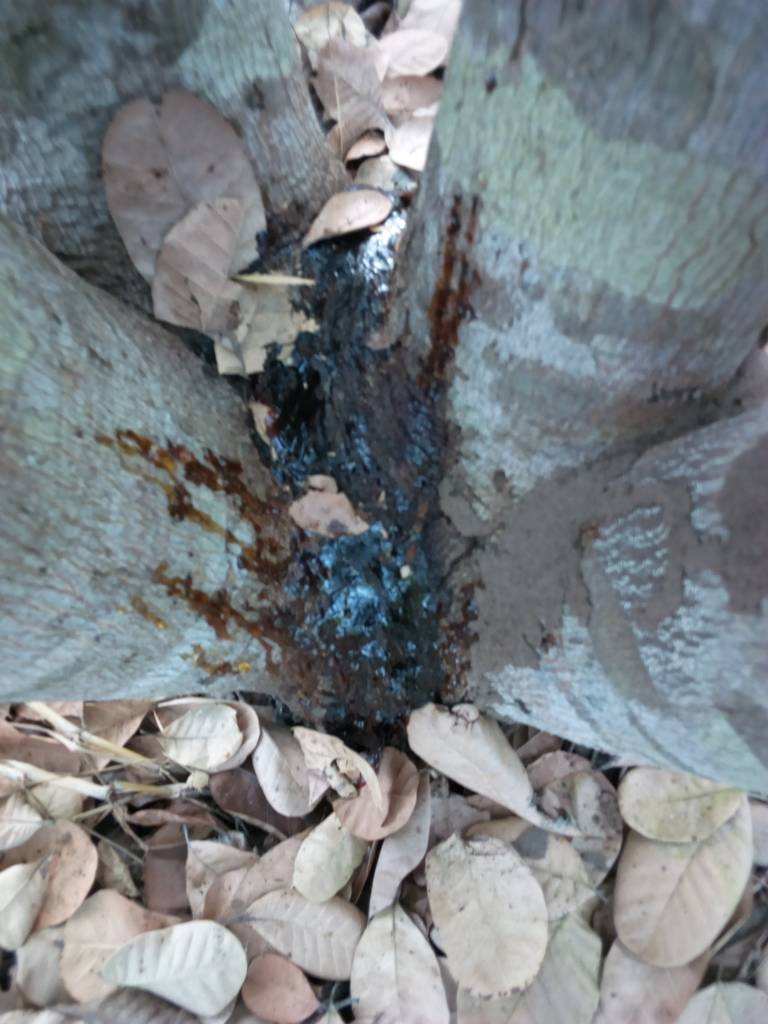Gommose: (193, 372, 494, 703)
